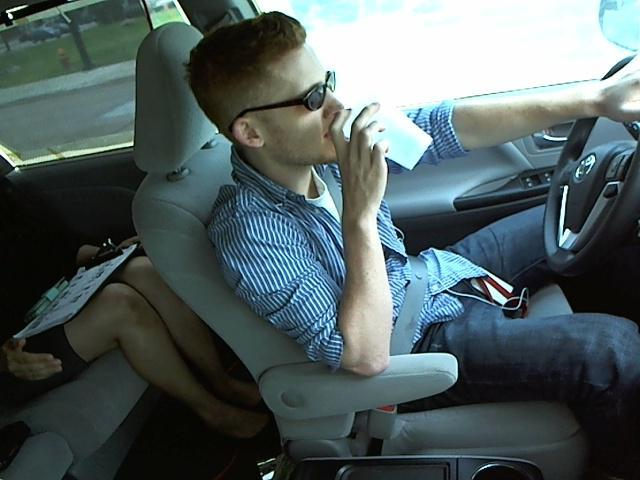Drinking: (230, 42, 431, 204)
